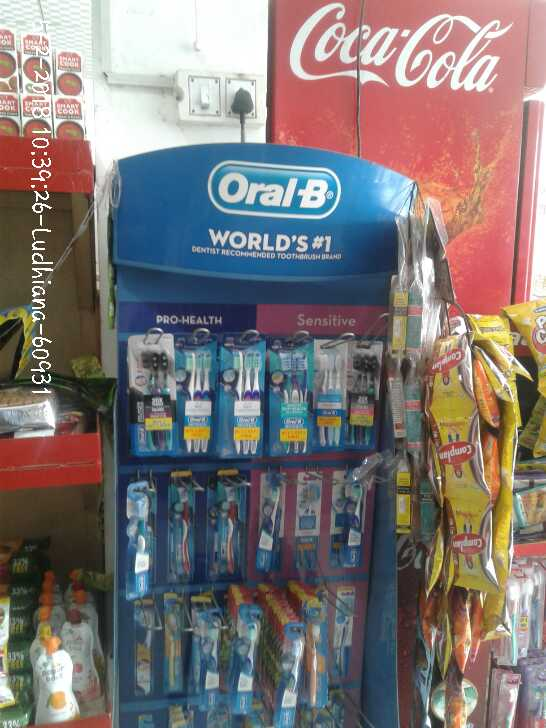oralb: (124, 337, 181, 454), (221, 338, 263, 461), (177, 343, 220, 453), (273, 343, 311, 455), (306, 349, 345, 451), (333, 474, 375, 566), (348, 342, 383, 449), (124, 481, 155, 598), (213, 480, 248, 582), (230, 614, 266, 713), (277, 632, 310, 728), (171, 484, 200, 589), (252, 475, 278, 584), (198, 614, 222, 716)
